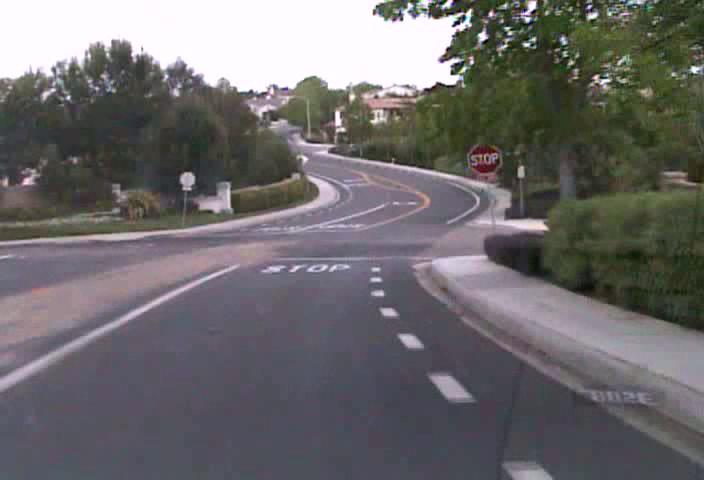stop: (466, 141, 502, 176)
